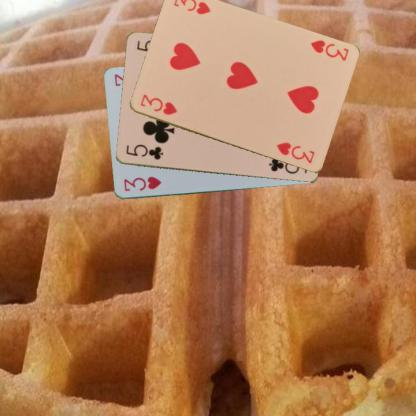3h: (308, 38, 350, 62), (138, 91, 178, 116), (121, 174, 162, 193)
5c: (123, 142, 165, 161)
